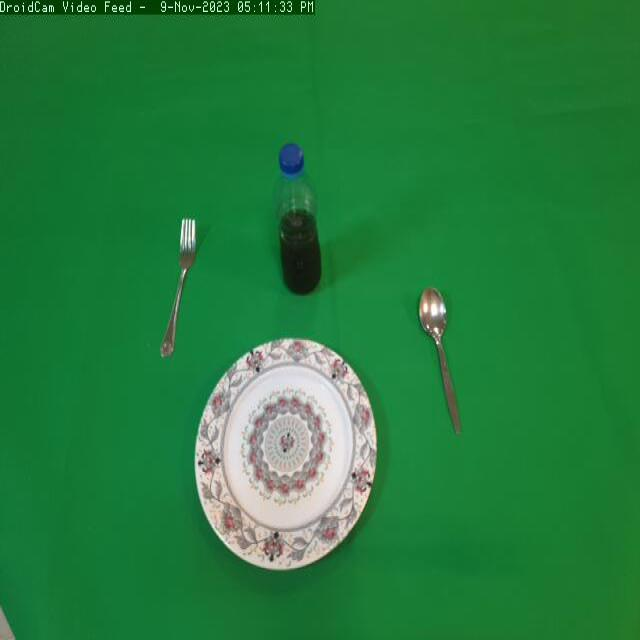fork: (158, 198, 213, 366)
fullbottle: (271, 132, 331, 311)
plate: (187, 330, 386, 583)
spoon: (412, 276, 482, 438)
